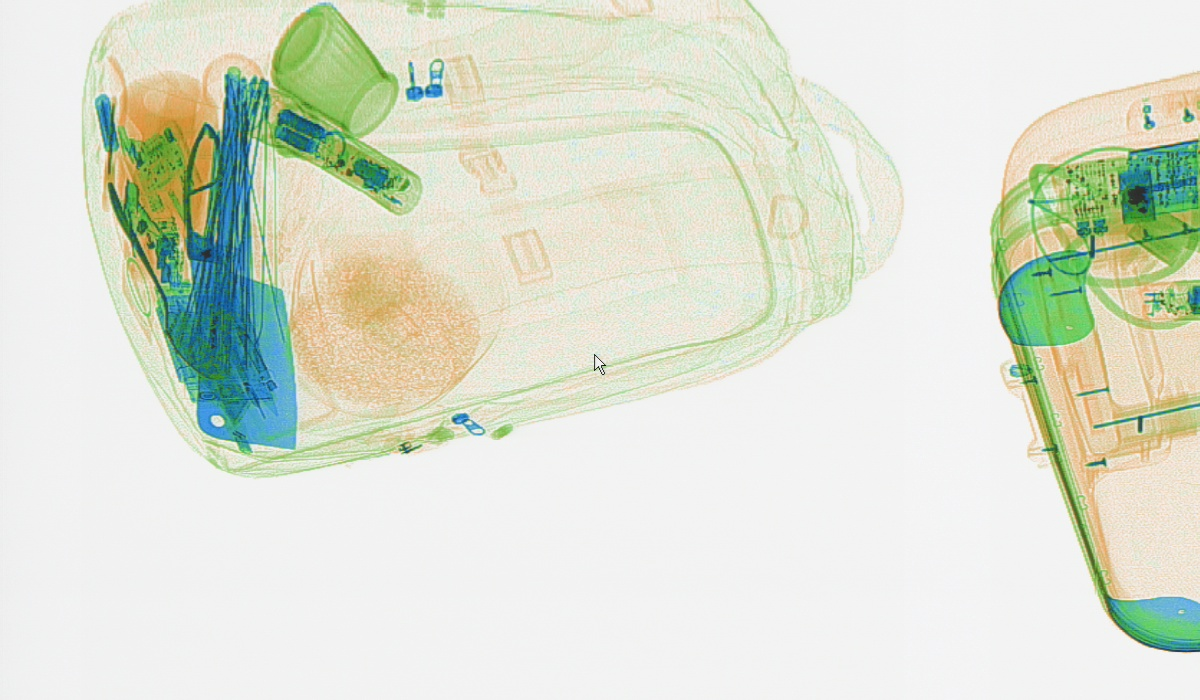knife: (186, 120, 298, 452)
